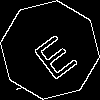E: (25, 25, 80, 82)
